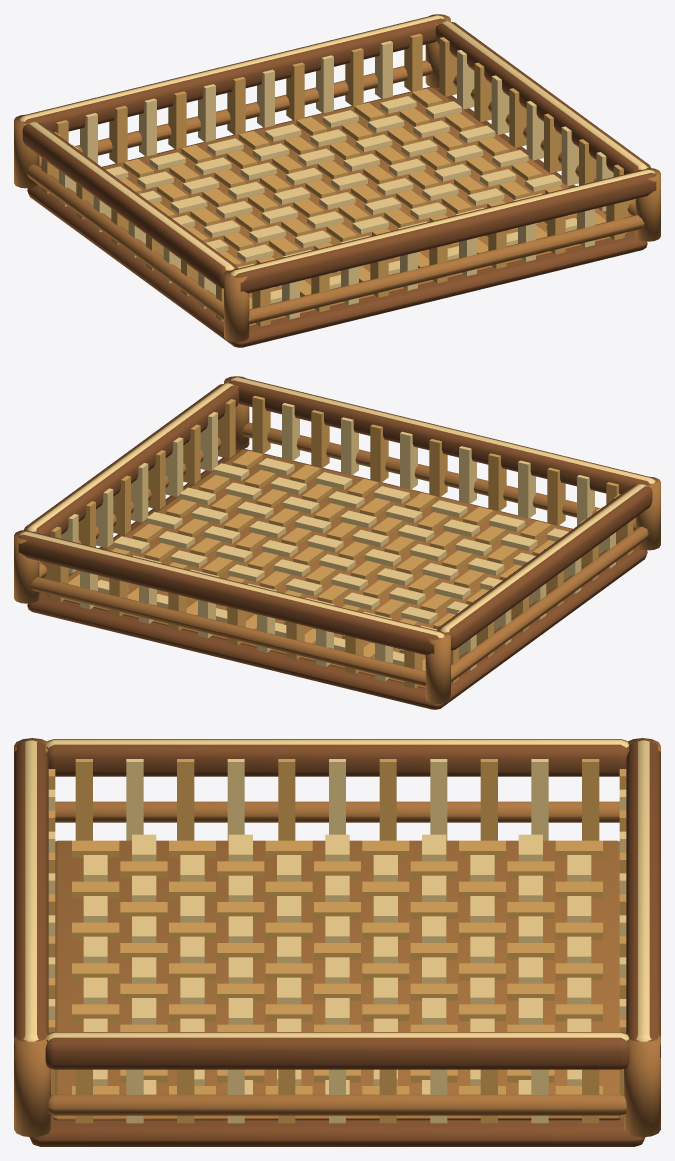
The model's file is basket_farm.glb.
3 renders of one model, top to bottom at view 1: azimuth 30°, elevation 25°; view 2: azimuth 150°, elevation 25°; view 3: azimuth 270°, elevation 25°, orthographic. The views are drawn at different scales.
Visible parts, largest first — view 1: basket_farm; view 2: basket_farm; view 3: basket_farm.
Part boxes in pixels (x1,y1,x2,y2): basket_farm: (14,14,660,347); basket_farm: (14,376,660,709); basket_farm: (14,738,660,1146).
Bounding box in the file's own units: 6.32 × 1.12 × 5.62.
